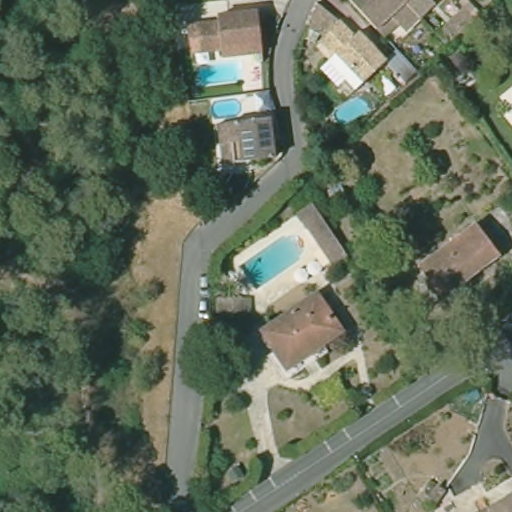pool: (228, 235, 310, 293), (187, 57, 248, 86), (325, 92, 373, 125), (205, 95, 244, 122)
